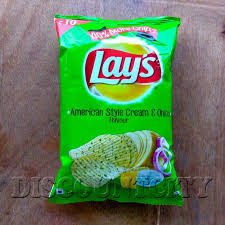lays-small: (51, 14, 182, 202)
